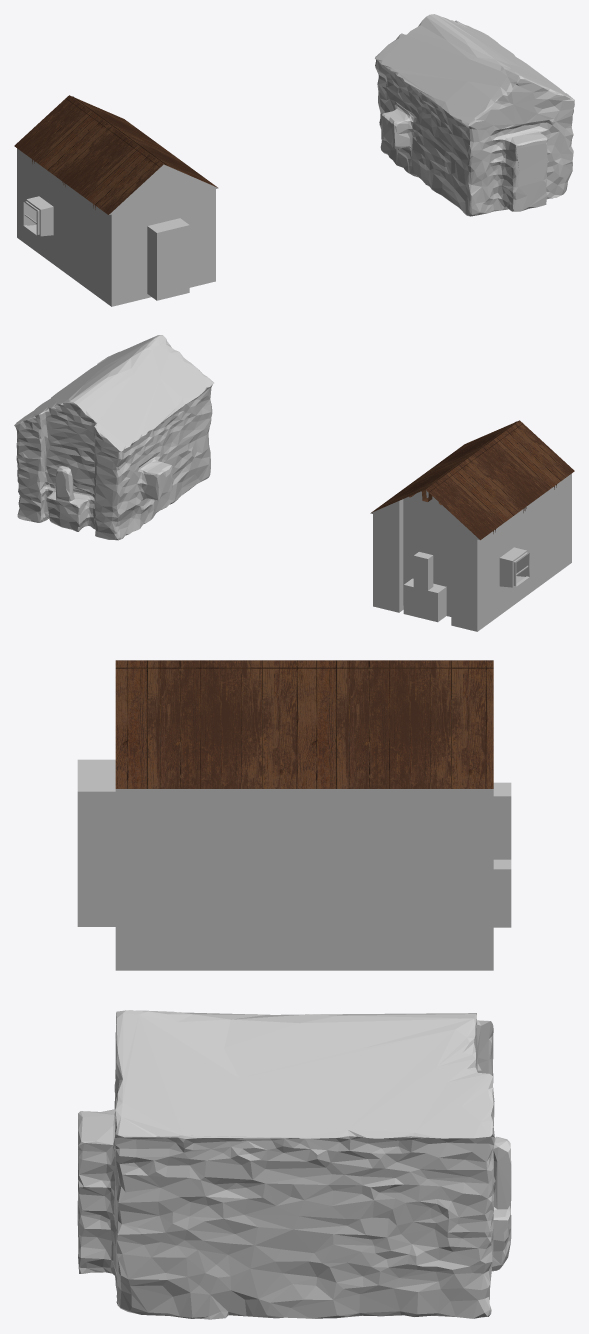
The model's file is ouija_scene_1.fbx.
3 renders of one model, top to bottom at view 1: azimuth 30°, elevation 25°; view 2: azimuth 150°, elevation 25°; view 3: azimuth 270°, elevation 25°, orthographic. The views are drawn at different scales.
Parts seen in each view (by area): view 1: room_highpoly, room, room_roof; view 2: room_highpoly, room, room_roof, room_window; view 3: room_highpoly, room, room_roof.
Boxes of the visible parts, x1,y1,x2,y2 form: room_highpoly: [375, 14, 574, 216]; room: [17, 148, 218, 306]; room_roof: [14, 95, 217, 214]; room_highpoly: [14, 335, 214, 540]; room: [370, 473, 571, 631]; room_roof: [371, 420, 574, 539]; room_window: [512, 550, 530, 588]; room_highpoly: [77, 1010, 511, 1319]; room: [77, 759, 511, 970]; room_roof: [115, 660, 493, 788].
Size of what is drawn, in the model's own units: 14.32 by 3.68 by 5.58.
